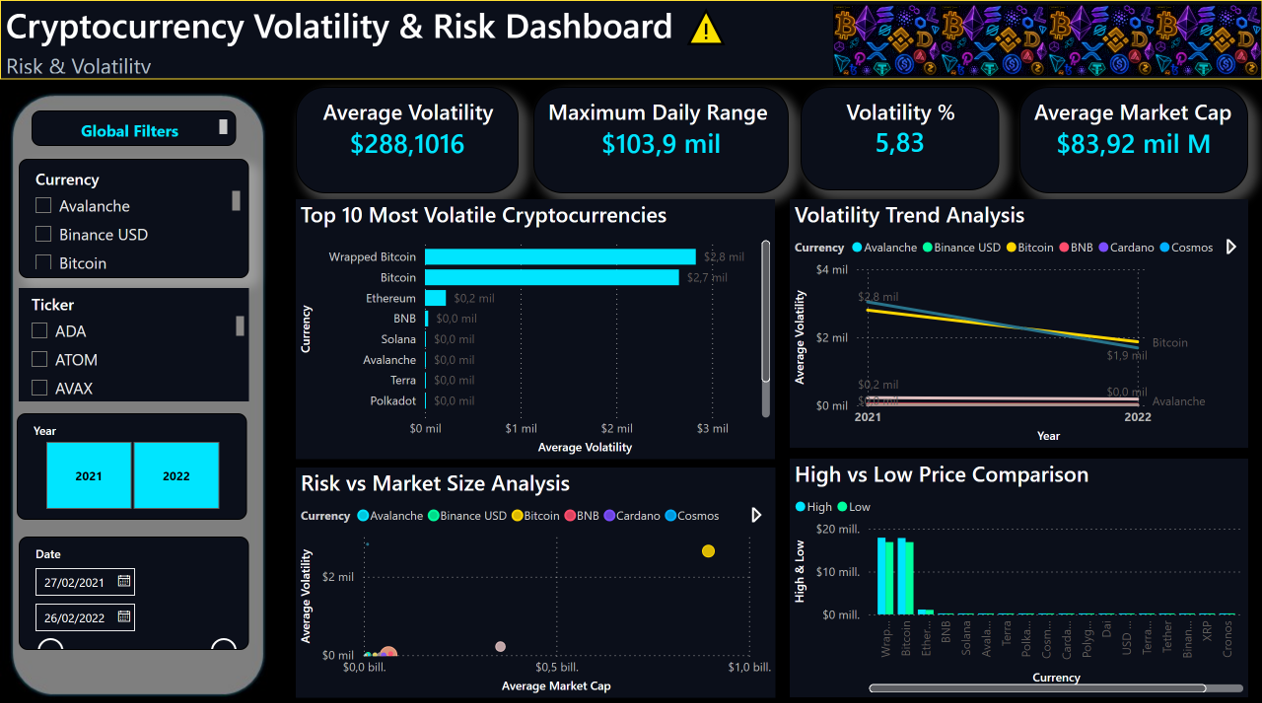

Layout of this report page (visuals, bound fields, positions):
{"tool":"powerbi","page":{"name":"VOLATILITY & RISK","canvas":[1280,720],"ordinal":4},"visuals":[{"type":"card","title":"Average Volatility","fields":{"Values":["crypto_history.Average Volatility"]},"box":[299.5,87.8,226.1,108],"z":0},{"type":"card","title":"Maximum Daily Range","fields":{"Values":["crypto_history.Maximum Daily Range"]},"box":[541.4,87.8,259.2,108],"z":1000},{"type":"card","title":"Volatility %","fields":{"Values":["crypto_history.Volatility %"]},"box":[812.2,87.8,201.6,105.1],"z":2000},{"type":"card","title":"Average Market Cap","fields":{"Values":["crypto_history.Average Market Cap"]},"box":[1033.9,87.8,231.8,108],"z":3000},{"type":"barChart","title":"Top 10 Most Volatile Cryptocurrencies","fields":{"Category":["crypto_history.Currency"],"Y":["crypto_history.Average Volatility"]},"box":[300,202,485.9,263.4],"z":4000},{"type":"lineChart","title":"Volatility Trend Analysis","fields":{"Category":["Calendar.Date.Variación.Jerarquía de fechas.Año","Calendar.Date.Variación.Jerarquía de fechas.Trimestre","Calendar.Date.Variación.Jerarquía de fechas.Mes","Calendar.Date.Variación.Jerarquía de fechas.Día"],"Y":["crypto_history.Average Volatility"],"Series":["crypto_history.Currency"]},"box":[800.6,201.6,465.1,252],"z":5000},{"type":"scatterChart","title":"Risk vs Market Size Analysis","fields":{"X":["crypto_history.Average Market Cap"],"Y":["crypto_history.Average Volatility"],"Series":["crypto_history.Currency"],"Size":["crypto_history.Average Volume"]},"box":[299.5,473.8,486.7,233.3],"z":6000},{"type":"clusteredColumnChart","title":" High vs Low Price Comparison","fields":{"Category":["crypto_history.Currency"],"Y":["Sum(crypto_history.High)","Sum(crypto_history.Low)"]},"box":[800.6,465.1,465.1,241.9],"z":7000},{"type":"slicer","fields":{"Values":["crypto_history.Currency"]},"box":[18.7,161.3,233.3,121],"z":8000},{"type":"slicer","fields":{"Values":["crypto_history.Ticker"]},"box":[18.7,292.3,233.3,115.2],"z":9000},{"type":"slicer","fields":{"Values":["Calendar.Year"]},"box":[17.3,419,233.3,108],"z":10000},{"type":"slicer","fields":{"Values":["Calendar.Date"]},"box":[18.7,544.3,233.3,115.2],"z":11000},{"type":"textbox","title":"Cryptocurrency Volatility & Risk Dashboard ⚠️","box":[0,0,1280.6,80.6],"z":12000},{"type":"textbox","box":[31.7,112.3,207.4,36],"z":13000},{"type":"image","box":[1171.3,0,108.7,81.1],"z":14000},{"type":"image","box":[1062.6,0,108.7,81.1],"z":15000},{"type":"image","box":[953.9,0,108.7,81.1],"z":16000},{"type":"image","box":[845.2,0,108.7,81.1],"z":17000}]}

Visuals, with their boxes in screenshot pixels (x1, y1, x2, y2), scaled from the page's 1280x720 canvas onto the 1262x703 screenshot:
"Average Volatility" card: box=[295, 86, 518, 191]
"Maximum Daily Range" card: box=[534, 86, 789, 191]
"Volatility %" card: box=[801, 86, 1000, 188]
"Average Market Cap" card: box=[1019, 86, 1248, 191]
"Top 10 Most Volatile Cryptocurrencies" barChart: box=[296, 197, 775, 454]
"Volatility Trend Analysis" lineChart: box=[789, 197, 1248, 443]
"Risk vs Market Size Analysis" scatterChart: box=[295, 463, 775, 690]
" High vs Low Price Comparison" clusteredColumnChart: box=[789, 454, 1248, 690]
slicer - crypto_history.Currency: box=[18, 157, 248, 276]
slicer - crypto_history.Ticker: box=[18, 285, 248, 398]
slicer - Calendar.Year: box=[17, 409, 247, 515]
slicer - Calendar.Date: box=[18, 531, 248, 644]
"Cryptocurrency Volatility & Risk Dashboard ⚠️" textbox: box=[0, 0, 1261, 79]
textbox: box=[31, 110, 236, 145]
image: box=[1155, 0, 1261, 79]
image: box=[1048, 0, 1155, 79]
image: box=[940, 0, 1048, 79]
image: box=[833, 0, 940, 79]
